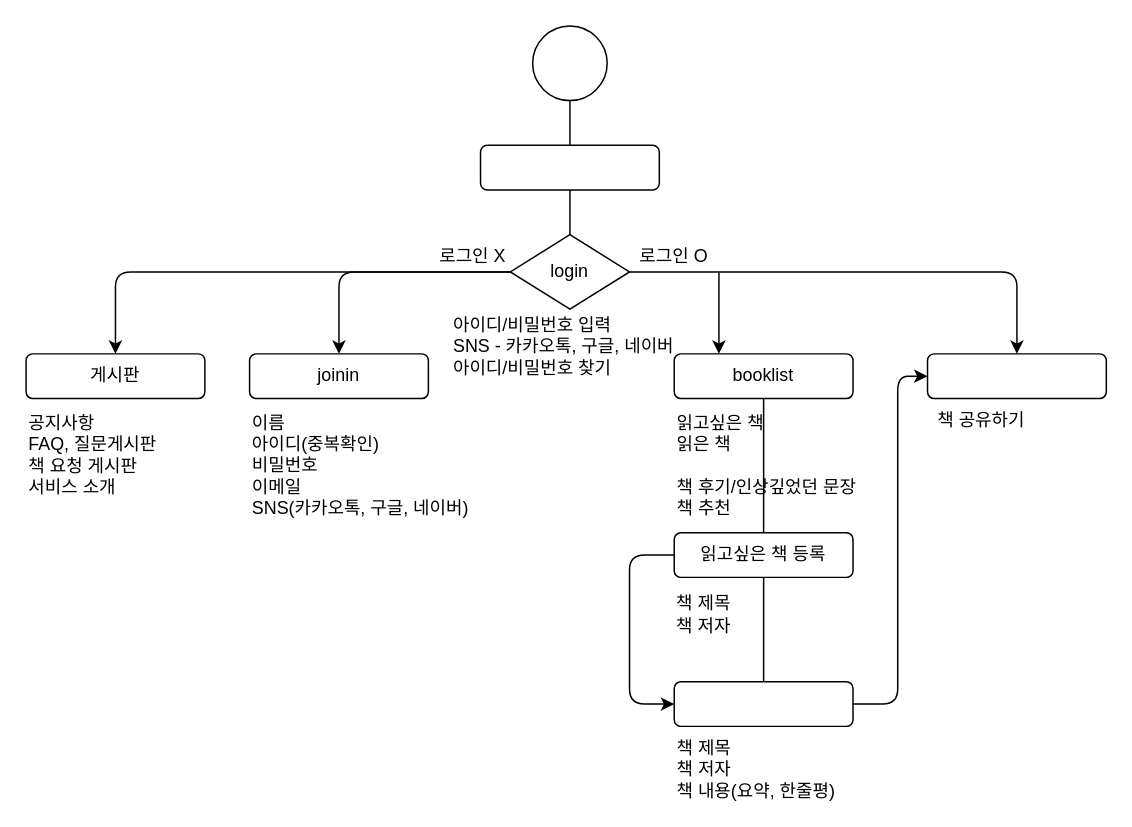
This 1132x827 diagram has some shape labels left out. The shapes that lost their labels are listed below. From the top down, each one's centre as x and y in pixels, then its label:
point 569,167: main page
point 1016,375: share
point 763,703: 읽은 책 등록
